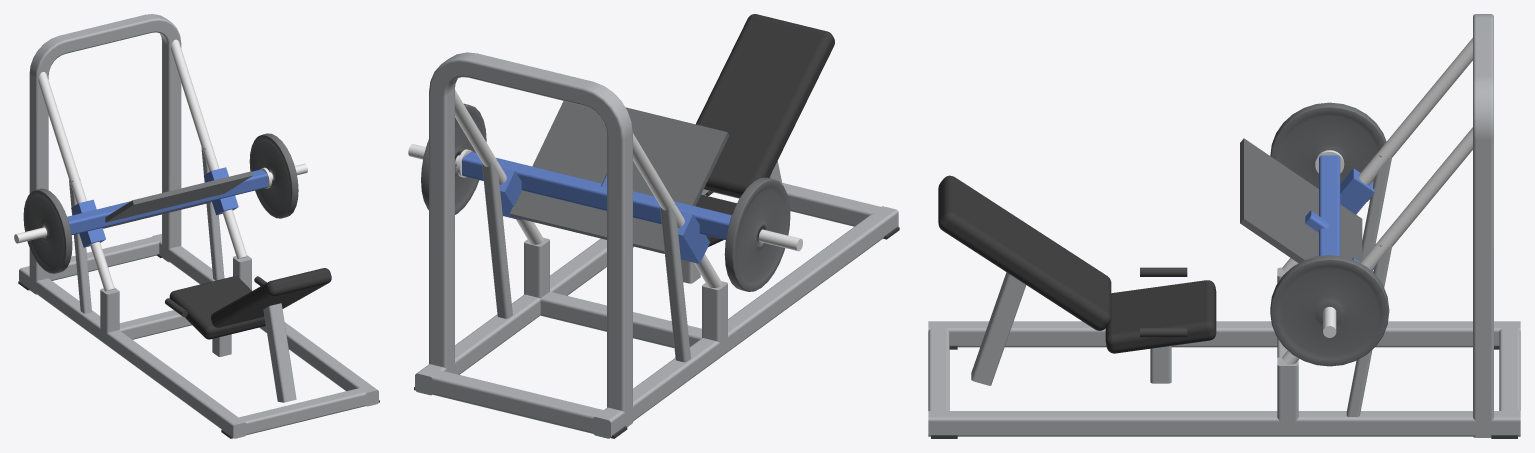
3 views of the same model, side by side, from view 1: azimuth 30°, elevation 25°; view 2: azimuth 150°, elevation 25°; view 3: azimuth 270°, elevation 25° (orthographic). The views are drawn at different scales.
Visible parts, largest first — view 1: base, rear_arch_tube, carriage, rail (×2), frame, seat_pad, backrest_pad, foot_plate, carriage_beam, backrest, carriage_slider (×2), seat; view 2: base, rear_arch_tube, backrest_pad, foot_plate, frame, carriage, carriage_beam, rail (×2), carriage_slider (×2), seat_pad, plate_horn; view 3: base, carriage, backrest_pad, rear_arch_tube, foot_plate, seat_pad, rail (×2), frame, backrest, carriage_beam, carriage_slider, seat.
Boxes of the visible parts, x1=… form: base: x1=18, y1=234, x2=379, y2=438; rear_arch_tube: x1=29, y1=14, x2=181, y2=294; carriage: x1=23, y1=133, x2=298, y2=273; rail (×2): x1=38, y1=39, x2=247, y2=291; frame: x1=69, y1=146, x2=251, y2=338; seat_pad: x1=169, y1=276, x2=265, y2=339; backrest_pad: x1=211, y1=268, x2=331, y2=327; foot_plate: x1=103, y1=171, x2=252, y2=228; carriage_beam: x1=67, y1=169, x2=267, y2=234; backrest: x1=263, y1=303, x2=296, y2=402; carriage_slider (×2): x1=71, y1=167, x2=238, y2=247; seat: x1=212, y1=334, x2=231, y2=356; base: x1=414, y1=183, x2=899, y2=438; rear_arch_tube: x1=429, y1=52, x2=632, y2=426; backrest_pad: x1=696, y1=14, x2=834, y2=197; foot_plate: x1=510, y1=101, x2=729, y2=253; frame: x1=482, y1=159, x2=727, y2=362; carriage: x1=421, y1=103, x2=790, y2=291; carriage_beam: x1=462, y1=151, x2=731, y2=239; rail (×2): x1=455, y1=90, x2=721, y2=287; carriage_slider (×2): x1=499, y1=167, x2=709, y2=263; seat_pad: x1=696, y1=194, x2=736, y2=246; plate_horn: x1=758, y1=229, x2=802, y2=251; base: x1=928, y1=321, x2=1520, y2=438; carriage: x1=1270, y1=102, x2=1389, y2=366; backrest_pad: x1=938, y1=175, x2=1111, y2=330; rear_arch_tube: x1=1473, y1=14, x2=1493, y2=437; foot_plate: x1=1240, y1=138, x2=1362, y2=263; seat_pad: x1=1105, y1=280, x2=1216, y2=353; rail (×2): x1=1282, y1=38, x2=1472, y2=364; frame: x1=1277, y1=155, x2=1391, y2=428; backrest: x1=971, y1=272, x2=1026, y2=385; carriage_beam: x1=1319, y1=155, x2=1340, y2=255; carriage_slider: x1=1340, y1=168, x2=1374, y2=214; seat: x1=1150, y1=346, x2=1171, y2=383.
Size of the model in its own units: 1.75 by 1.42 by 2.24.
